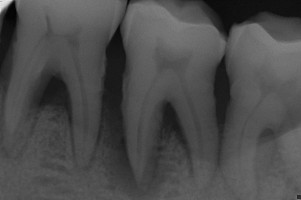Dental Caries: (102, 101, 188, 200)
Endo-Periodontal Lesion: (39, 75, 73, 127), (257, 126, 278, 149)
